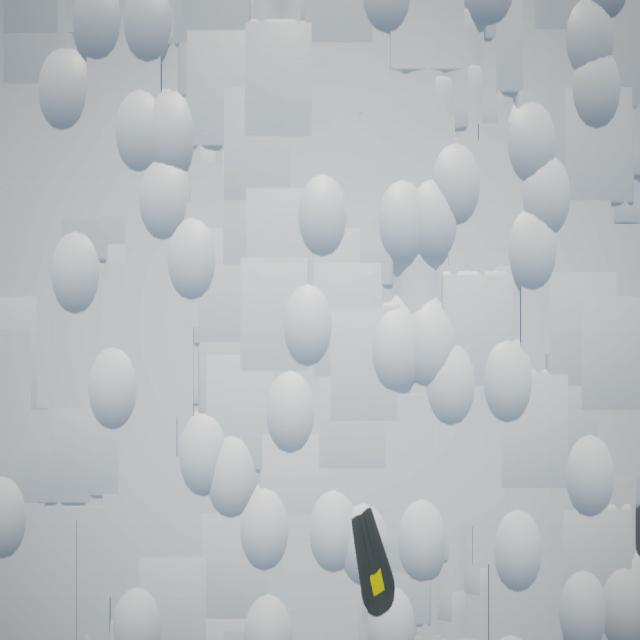handle_folk: (352, 508, 396, 619)
